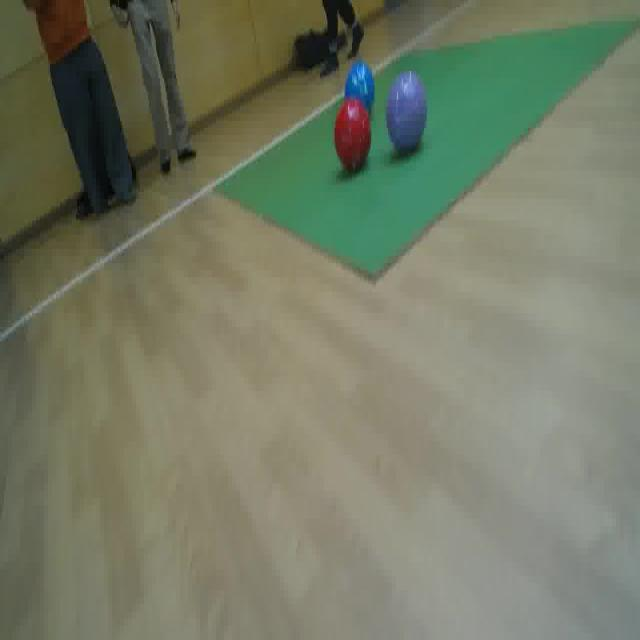blue_ball: (347, 49, 380, 116)
purple_ball: (380, 64, 436, 160)
red_ball: (328, 106, 376, 171)
